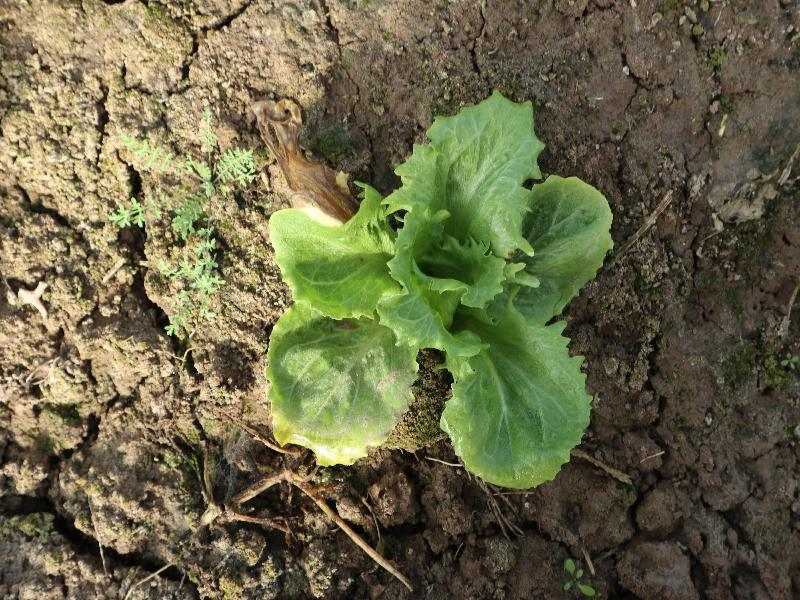lettuce: (263, 87, 615, 490)
